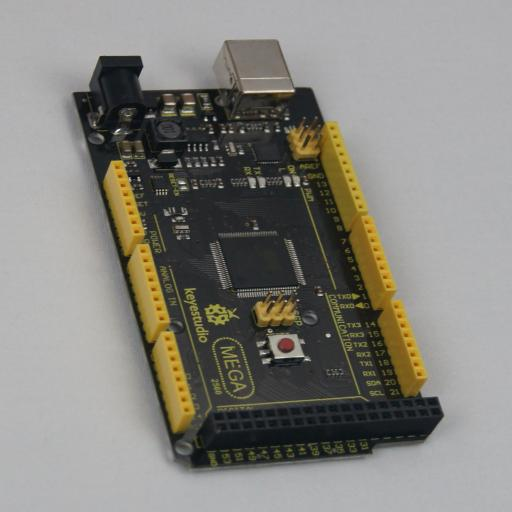Arduino Mega 2560 -Black and Yellow-: (72, 40, 444, 472)
